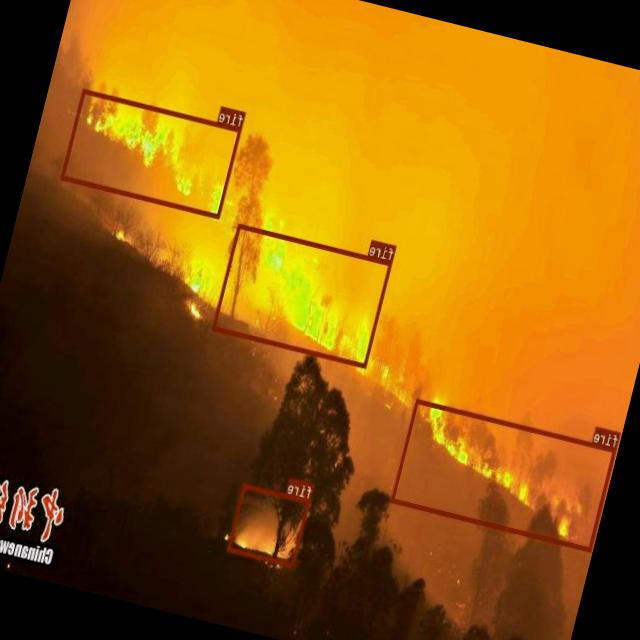fire: (390, 398, 618, 552), (212, 222, 393, 368), (61, 88, 242, 218), (227, 482, 311, 568)
